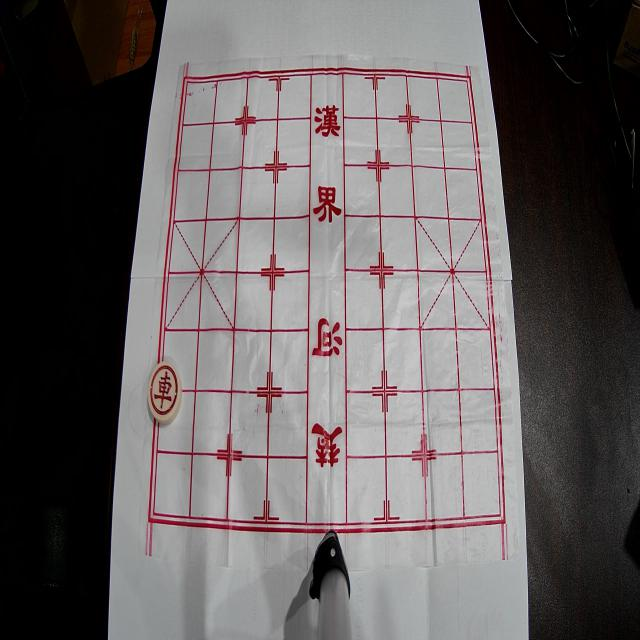red-chariot: (148, 362, 182, 424)
